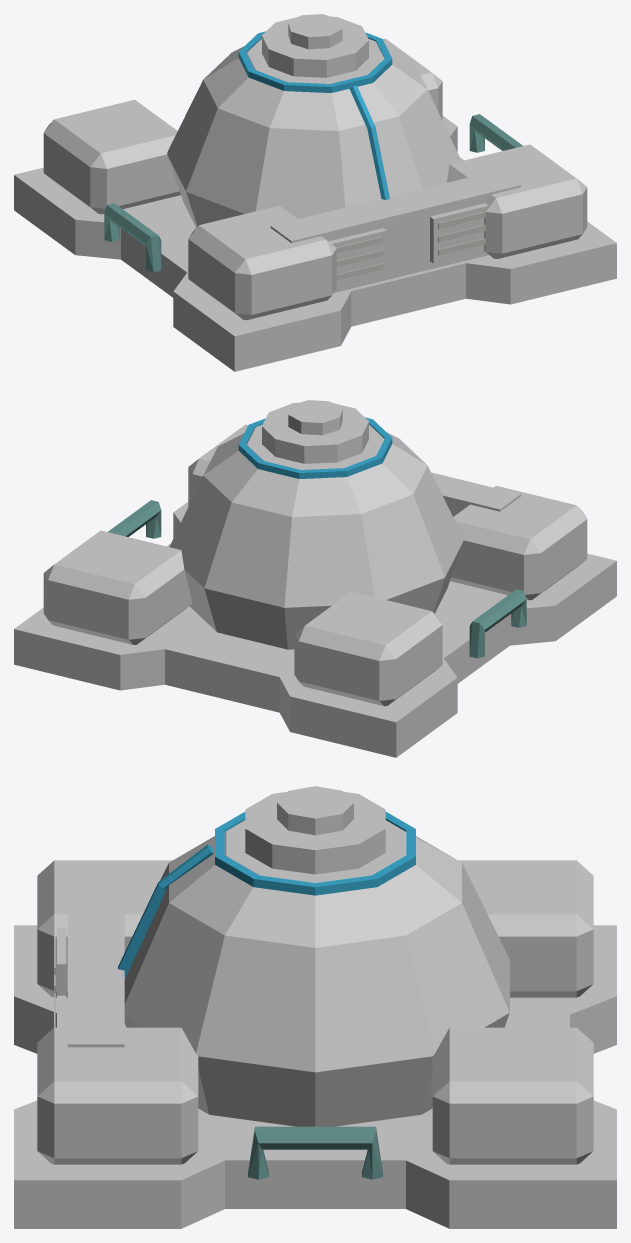
Rendered from gene_processor.obj.
3 renders of one model, top to bottom at view 1: azimuth 30°, elevation 25°; view 2: azimuth 150°, elevation 25°; view 3: azimuth 270°, elevation 25°, orthographic. The views are drawn at different scales.
Visible parts, largest first — view 1: gene_processor; view 2: gene_processor; view 3: gene_processor.
Boxes of the visible parts, <box> form: gene_processor: <box>14,14,616,371</box>; gene_processor: <box>14,400,616,757</box>; gene_processor: <box>14,786,616,1228</box>.
Size of the model in its own units: 1.8 by 0.985 by 1.8.
